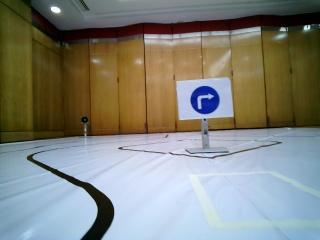right: (177, 83, 233, 120)
